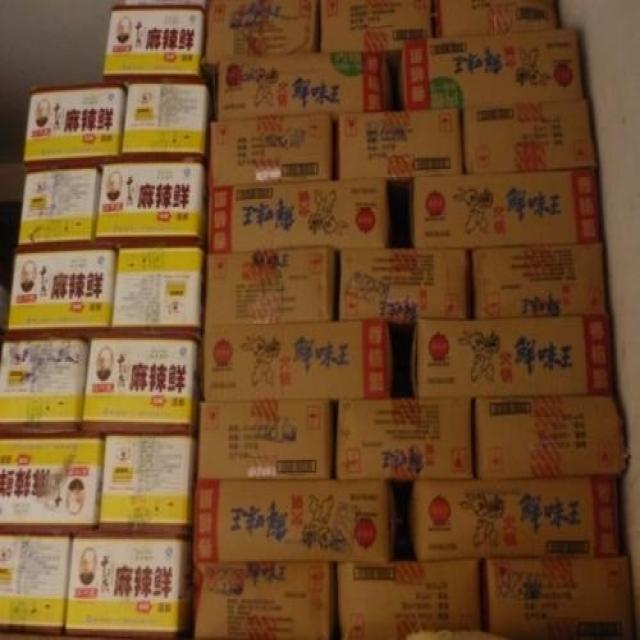box: (409, 475, 620, 561), (193, 477, 398, 563), (410, 314, 613, 398), (204, 319, 394, 406), (397, 28, 584, 111), (409, 168, 600, 249), (64, 529, 194, 638), (207, 179, 392, 254), (80, 331, 200, 438), (475, 395, 626, 479), (214, 52, 390, 124), (480, 557, 635, 638), (335, 397, 476, 482), (337, 558, 482, 638), (196, 400, 334, 480), (204, 247, 340, 327), (193, 563, 335, 638), (0, 431, 106, 530), (6, 242, 118, 335), (99, 432, 199, 535), (461, 98, 598, 173), (335, 108, 465, 187), (95, 162, 208, 252), (471, 243, 606, 318), (339, 250, 473, 325), (208, 114, 336, 189), (23, 82, 128, 171), (109, 243, 207, 336), (0, 332, 92, 431), (200, 0, 321, 75), (120, 79, 216, 167), (102, 4, 205, 82), (0, 528, 73, 635), (321, 0, 435, 68), (18, 164, 103, 245), (435, 0, 560, 38)
